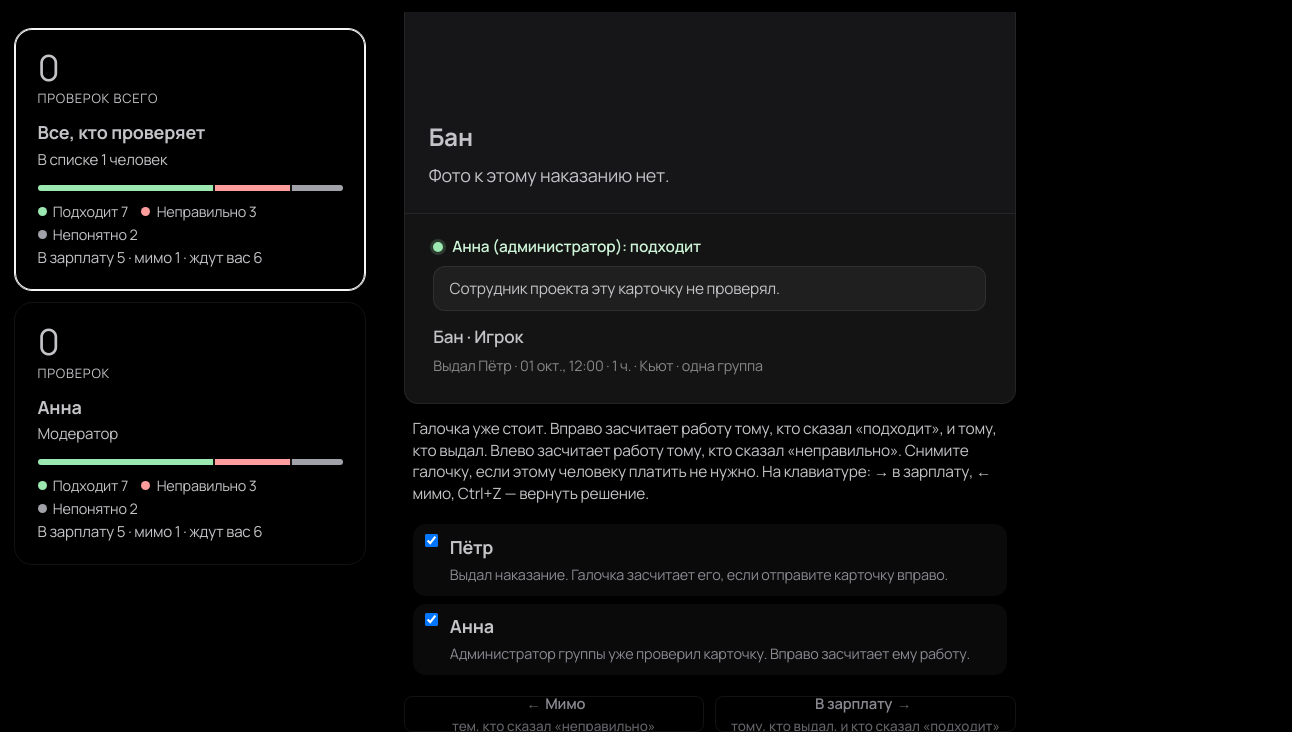
it: CreatorPay › accepts the card into salary and can focus one administrator
(page scrolled)
Check: the heading "Бан · Игрок" is shown, box [433,325,523,348]
Click the button "В зарплату → тому, кто выдал, и кто сказал «подходит»".
click(865, 714)  # box [715,696,1016,731]
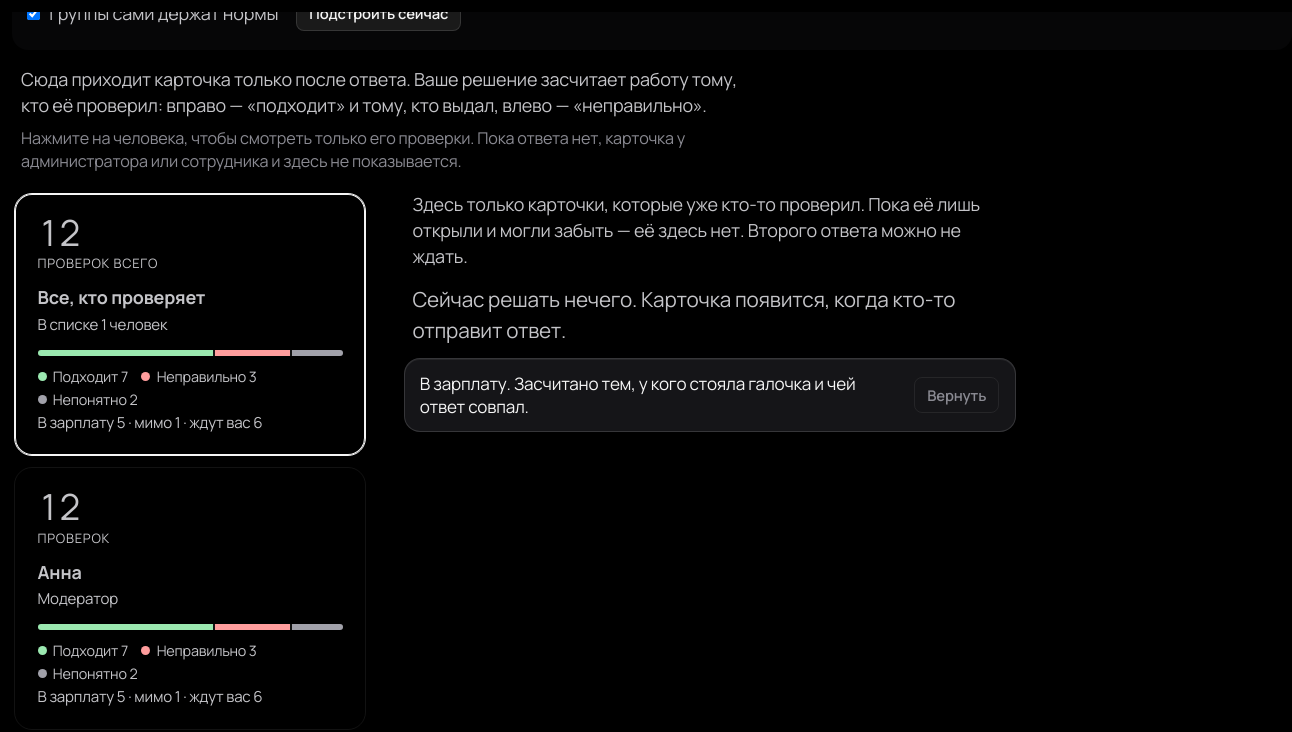
Check: the text "Сейчас решать нечего" is shown, box [412,285,955,344]
Check: the text "В зарплату. Засчитано тем, у кого стояла галочка и чей ответ совпал." is shown, box [420,372,901,418]
Click the button "Анна".
click(59, 506)  # box [14,467,366,730]
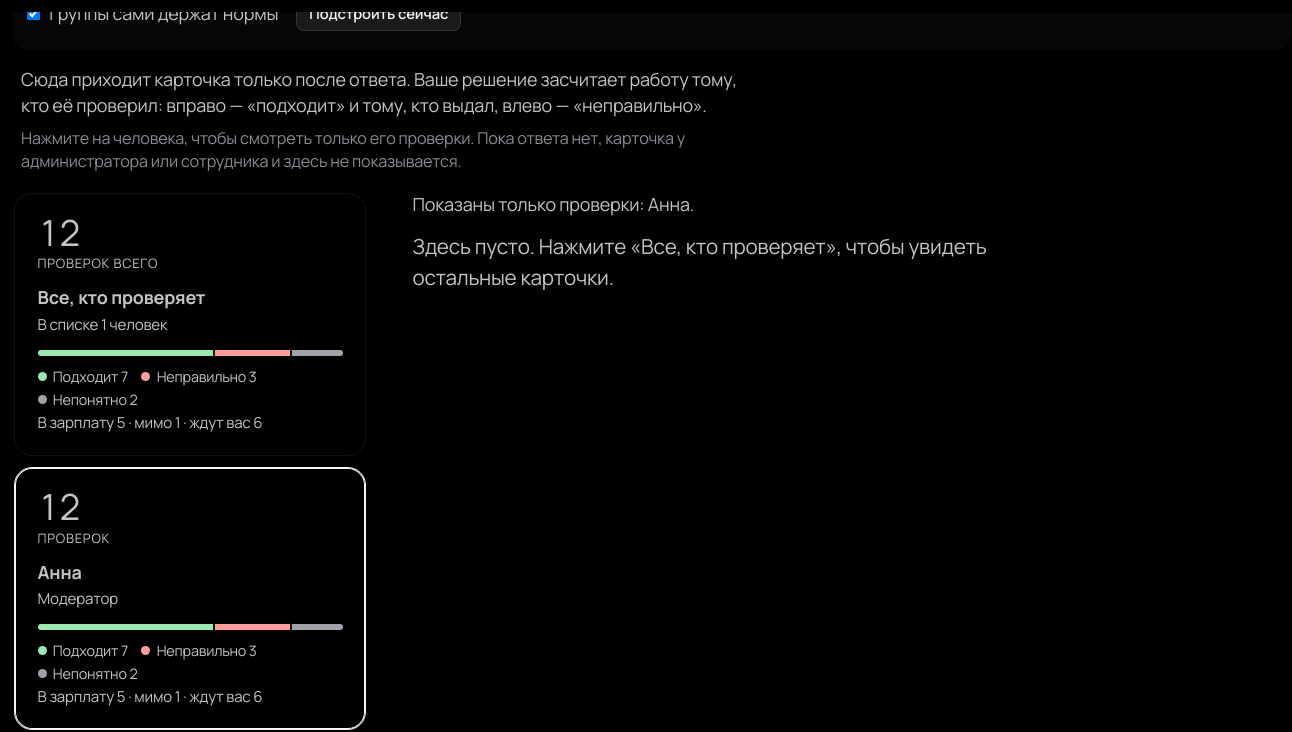
Check: the text "Показаны только проверки: Анна." is shown, box [412,192,694,216]
Check: the text "Нажмите «Все, кто проверяет»" is shown, box [412,232,987,291]
